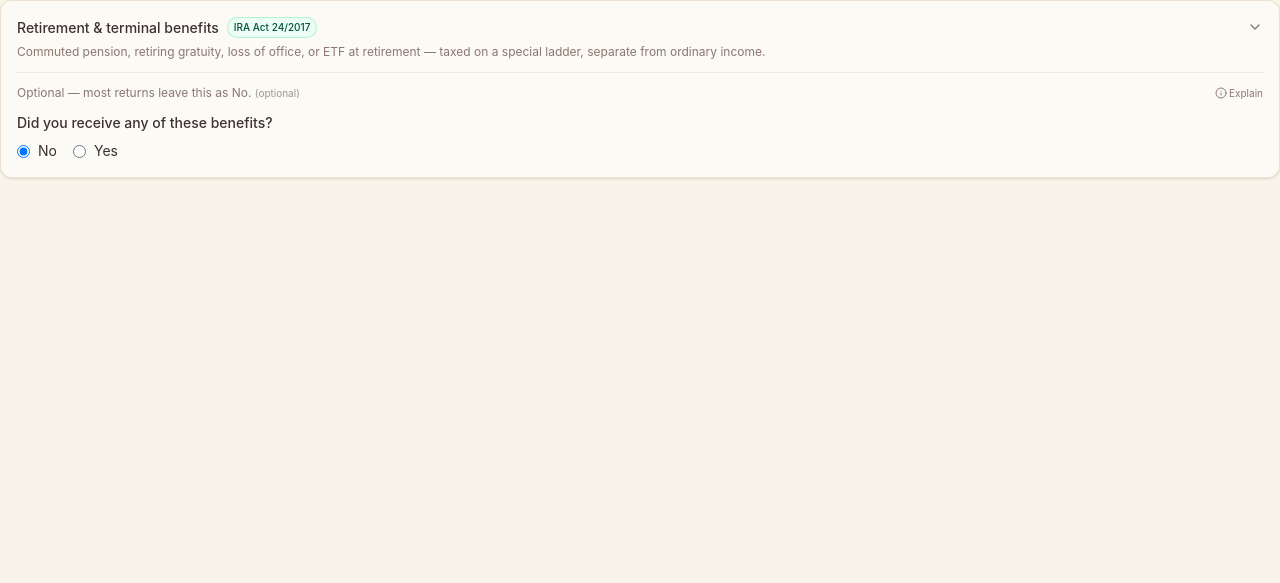
TerminalBenefitSection › shows the 2019/20 period radios and requires them
Click the radio button labelled "Yes" at (80, 151), box [73, 144, 86, 158]
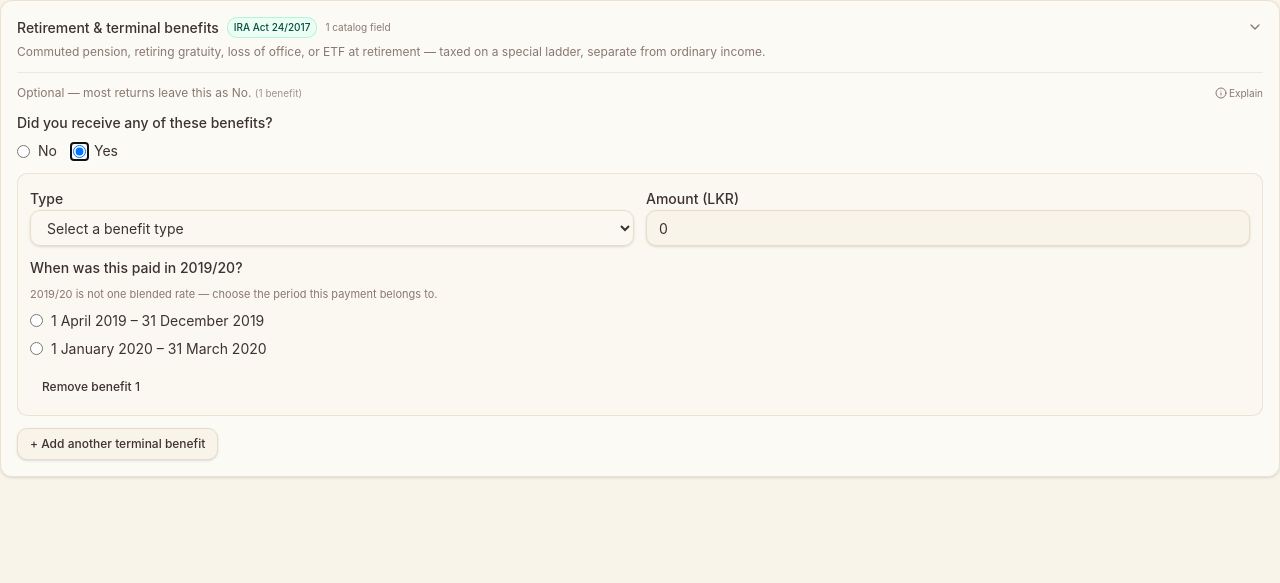
Expected: the text "When was this paid in 2019/20?" is shown, [30, 258, 242, 278]
Click the radio button labelled "1 April 2019 – 31 December 2019" at (36, 320), box [30, 314, 43, 327]
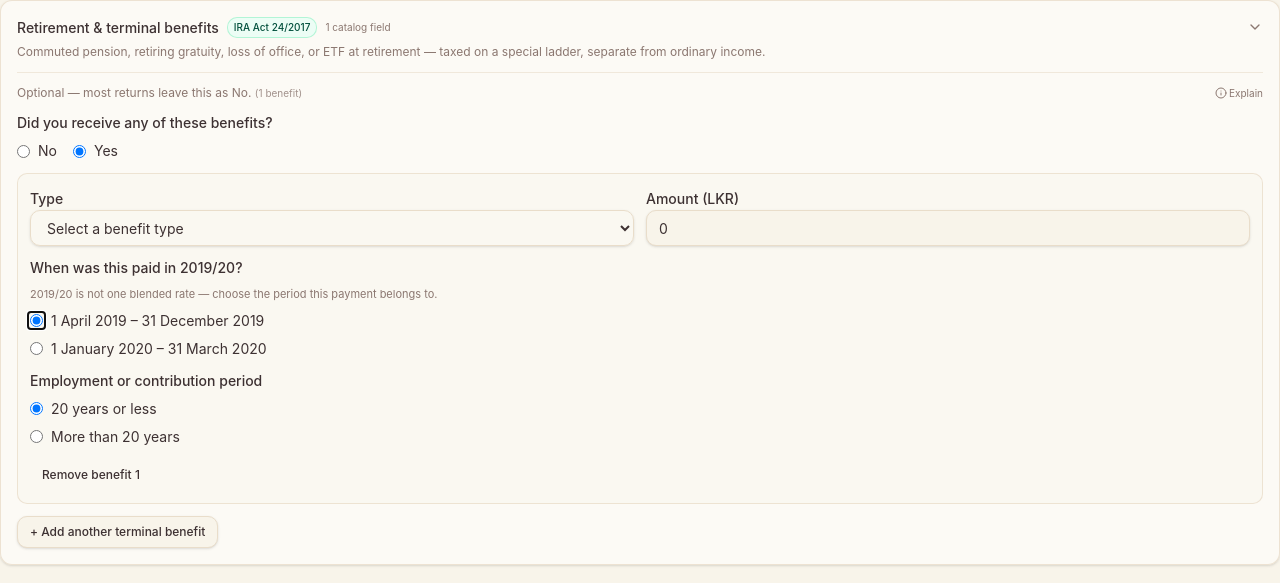
Expected: the text "More than 20 years" is shown, [30, 428, 180, 444]
